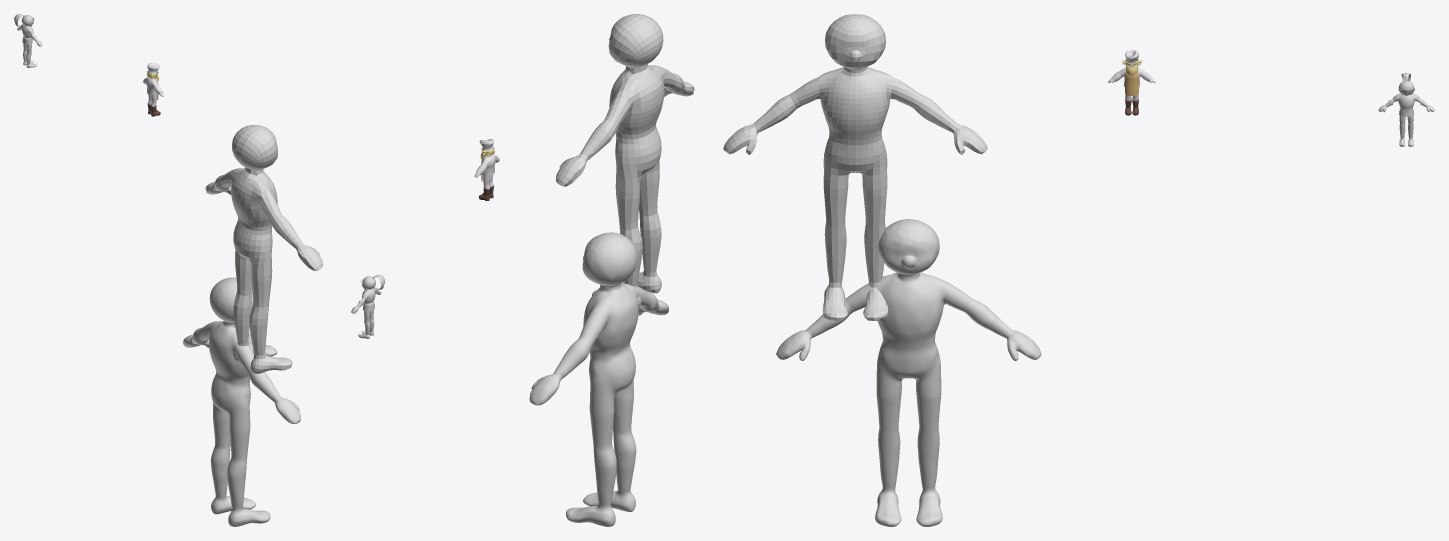
File: retopologyCharacterwithSeams.fbx
3 renders of one model, left to right at view 1: azimuth 30°, elevation 25°; view 2: azimuth 150°, elevation 25°; view 3: azimuth 270°, elevation 25°, orthographic. The views are drawn at different scales.
Parts seen in each view (by area): view 1: RetopologyBase.001, BaseMesh, arms; view 2: BaseMesh, RetopologyBase.001, arms; view 3: RetopologyBase.001, BaseMesh, arms.
Part boxes in pixels (<box>): RetopologyBase.001: <box>205,124,322,373</box>; BaseMesh: <box>183,277,300,526</box>; arms: <box>143,73,163,116</box>; BaseMesh: <box>529,232,668,526</box>; RetopologyBase.001: <box>556,14,694,306</box>; arms: <box>474,149,499,200</box>; RetopologyBase.001: <box>723,14,987,320</box>; BaseMesh: <box>776,219,1041,526</box>; arms: <box>1108,61,1155,115</box>.
Size of the model in its own units: 183 by 1473 by 1915.
